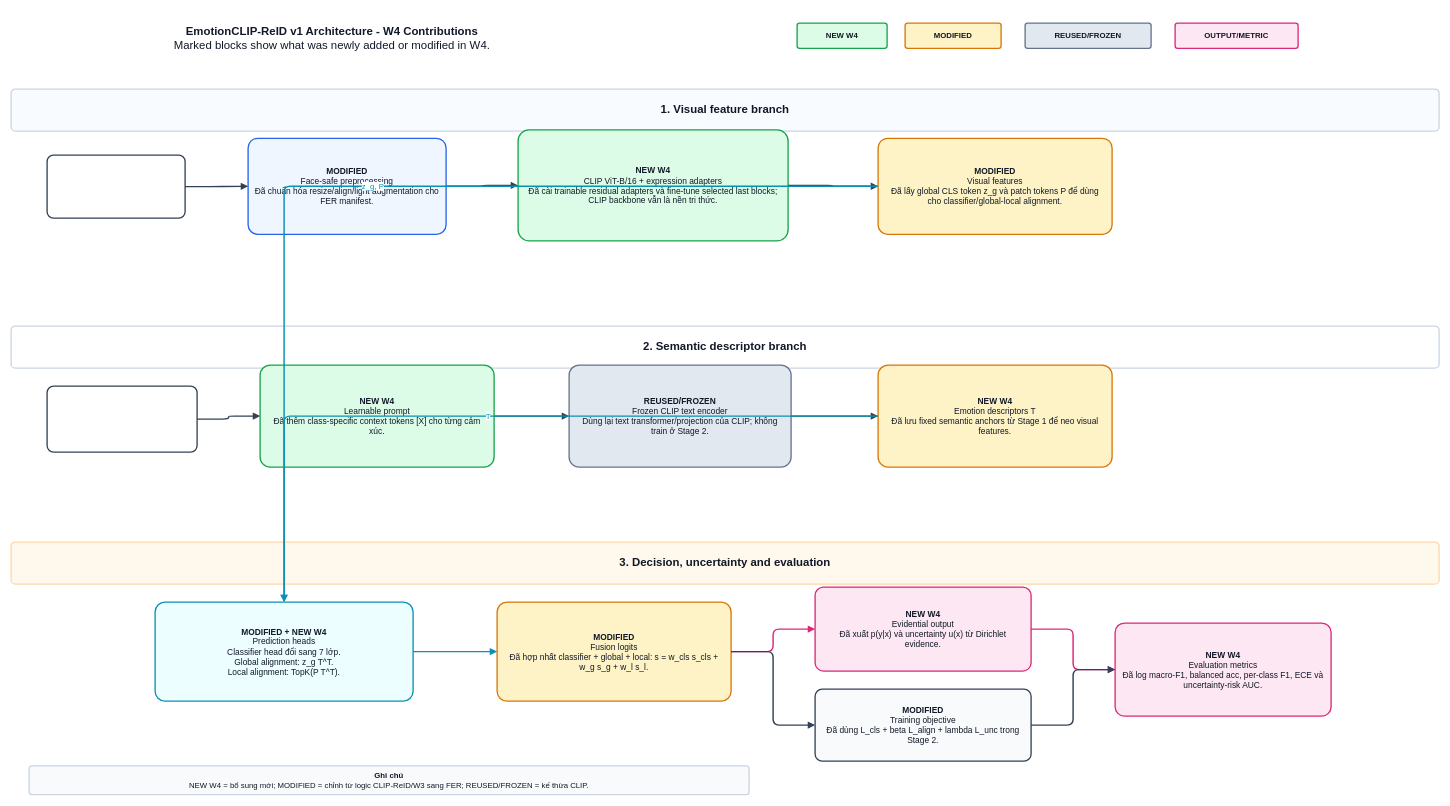
This 1450x806 diagram has some shape labels left out. The shapes that lost their labels are listed below. From the top down, each one's centre as x and y in pixels, then its label:
(x=115, y=186): Face image Input x
(x=121, y=418): Emotion labels Input y: 7 basic emotions
